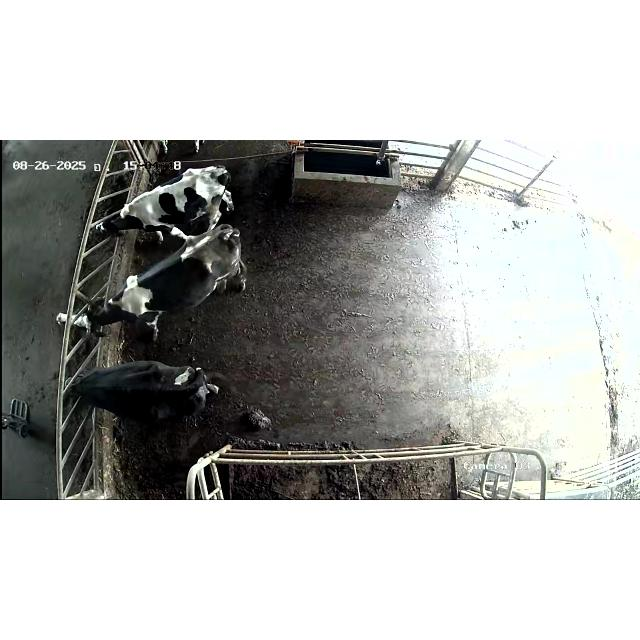eat: (40, 286, 136, 344), (74, 194, 158, 246), (42, 360, 116, 414)
